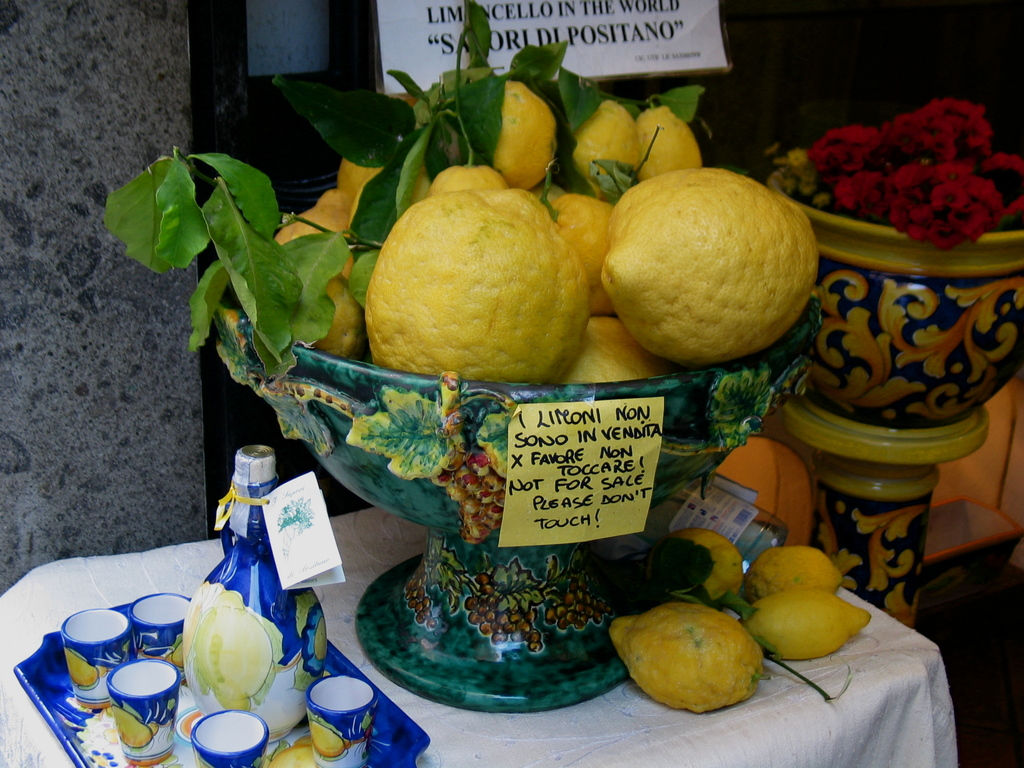Ripe: (367, 177, 595, 387), (602, 167, 813, 355), (614, 597, 752, 700), (744, 592, 879, 664), (492, 76, 567, 172), (571, 318, 666, 389), (577, 97, 643, 183), (550, 196, 617, 262), (638, 116, 706, 179), (669, 524, 732, 592), (744, 544, 840, 585)
